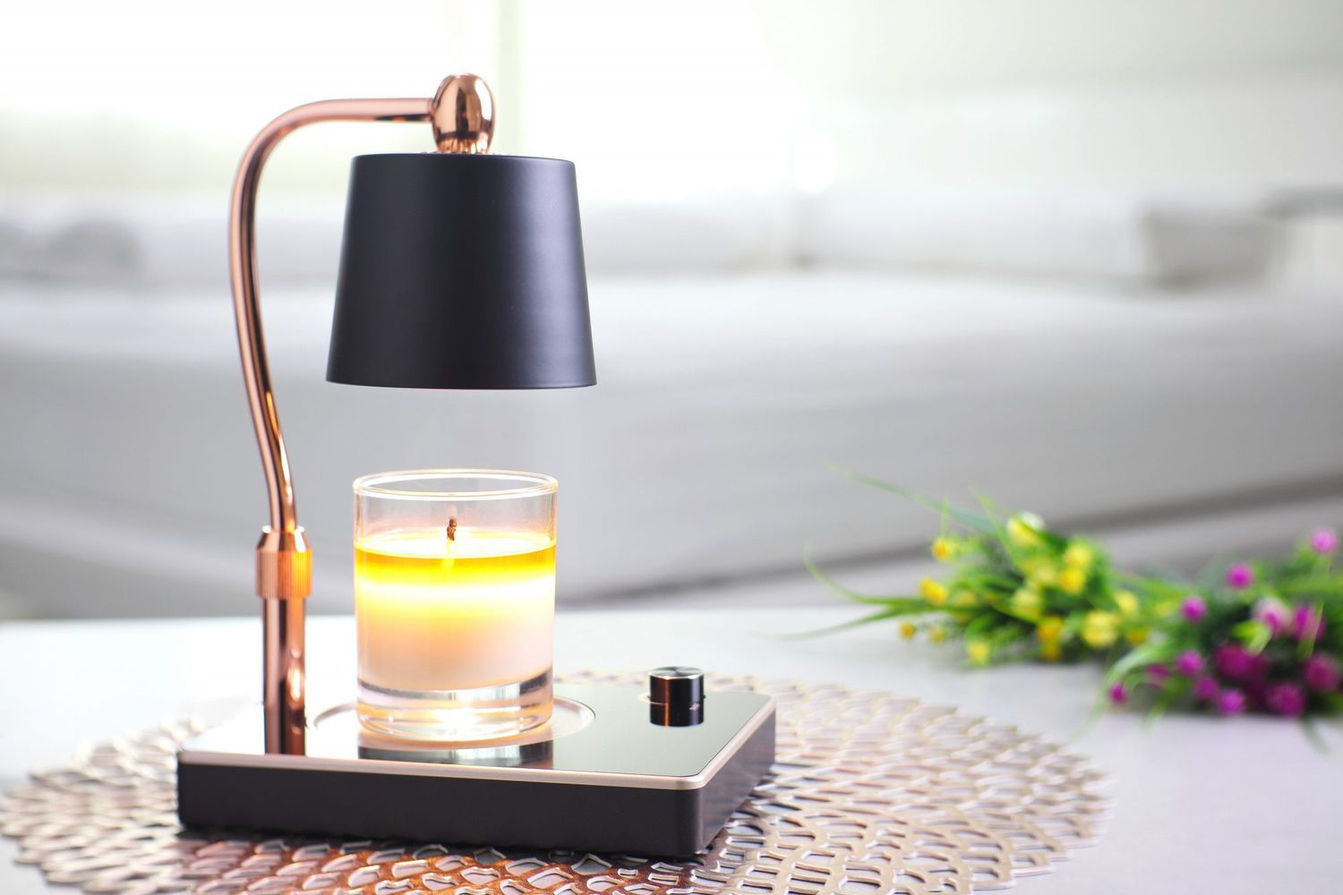Open-Flame-Hazard: (324, 428, 581, 763)
